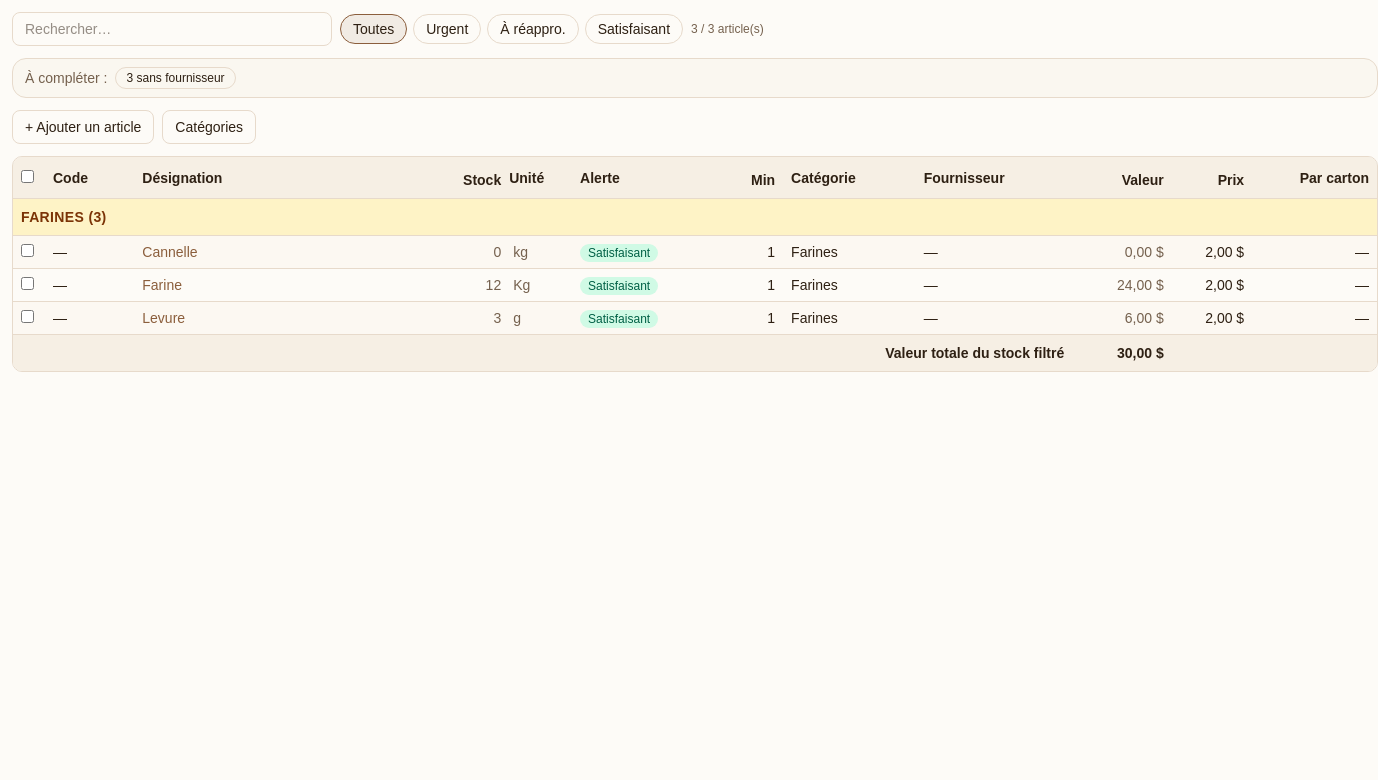
Test: suppression groupée : aperçu, confirmation, compte rendu › confirmer supprime, affiche « 1 supprimé · 1 conservé… » et propose de DÉSACTIVER les conservés
This screenshot has width=1378, height=780.
Step 1. Click the checkbox named "Sélectionner Cannelle" → coordinates (28, 250), box [21,244,34,257]
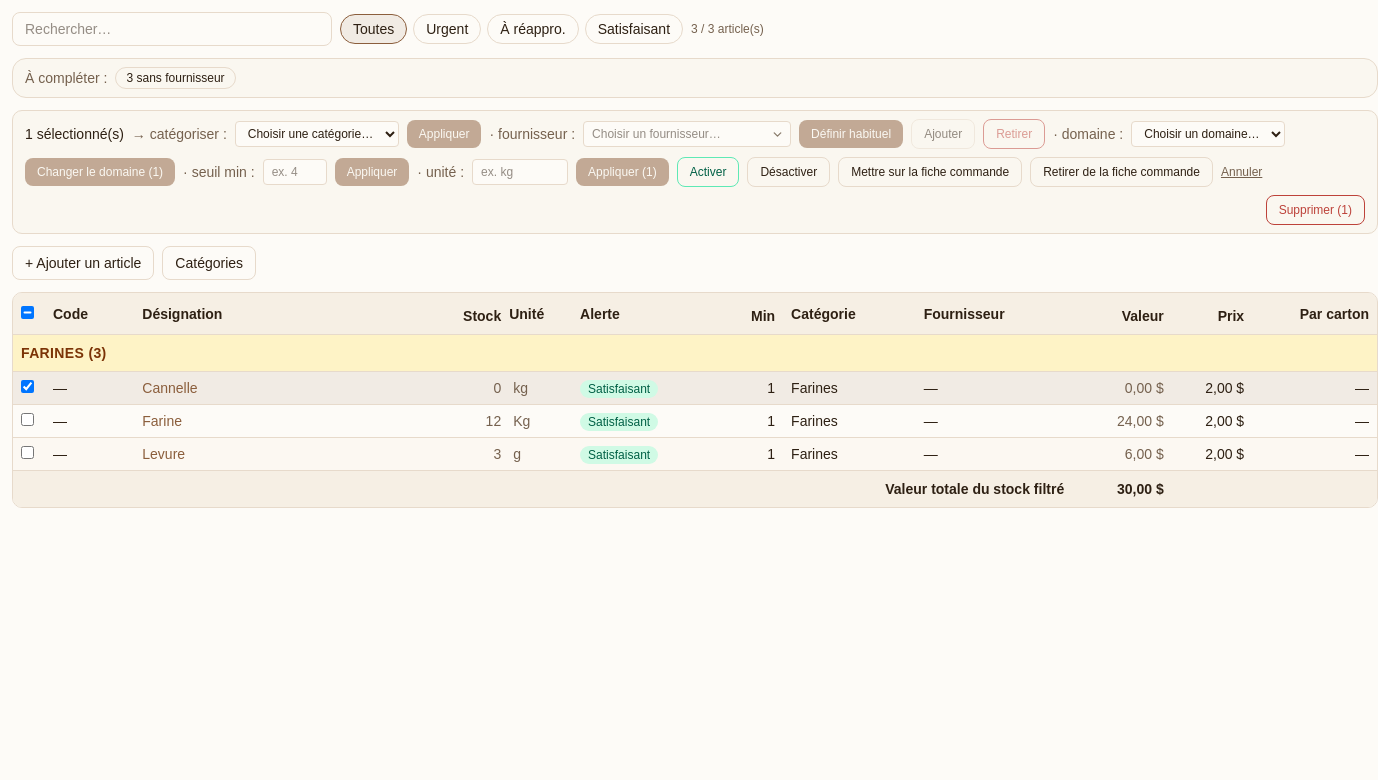
Step 2. Click the checkbox named "Sélectionner Farine" → coordinates (28, 420), box [21,413,34,426]
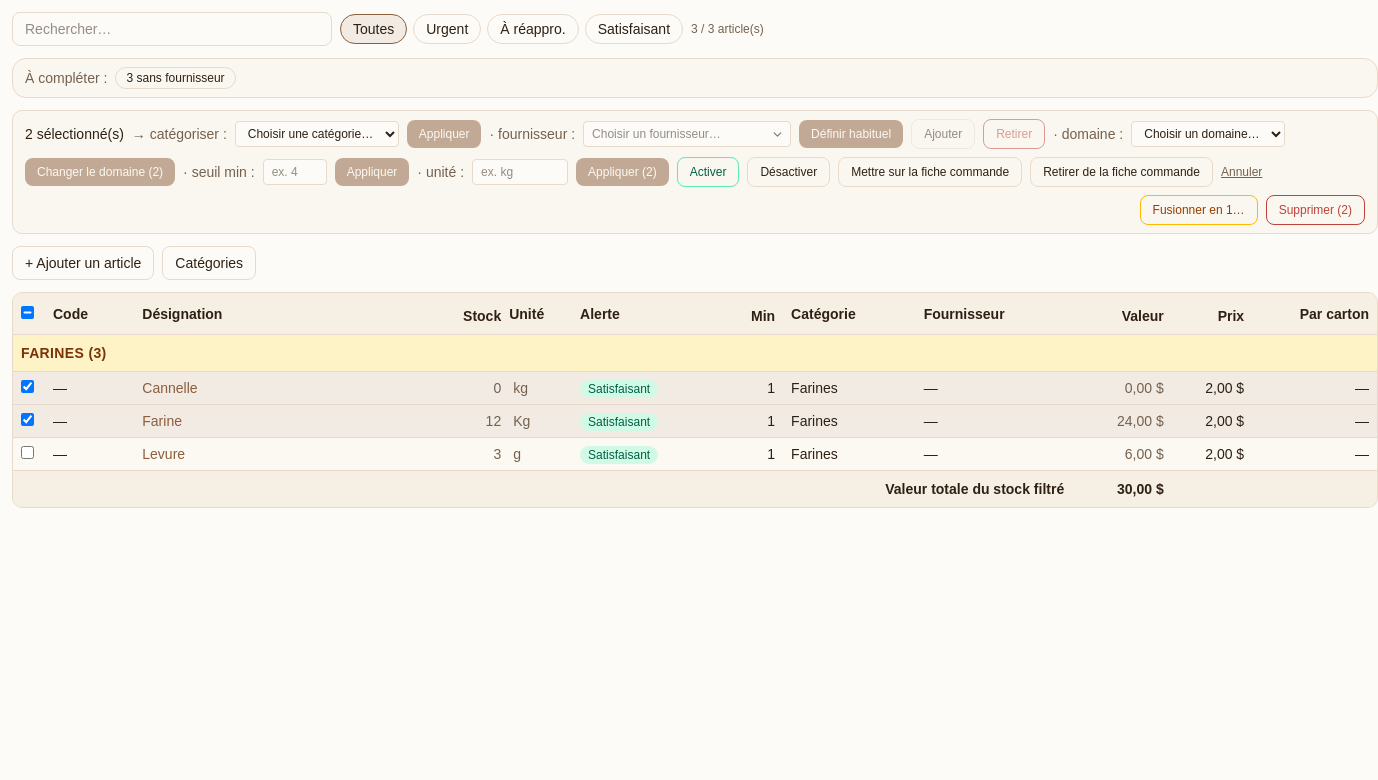
Result: the button "Supprimer (2)" is shown
Step 3. Click the button "Supprimer (2)" → coordinates (1315, 210), box [1266,195,1365,225]
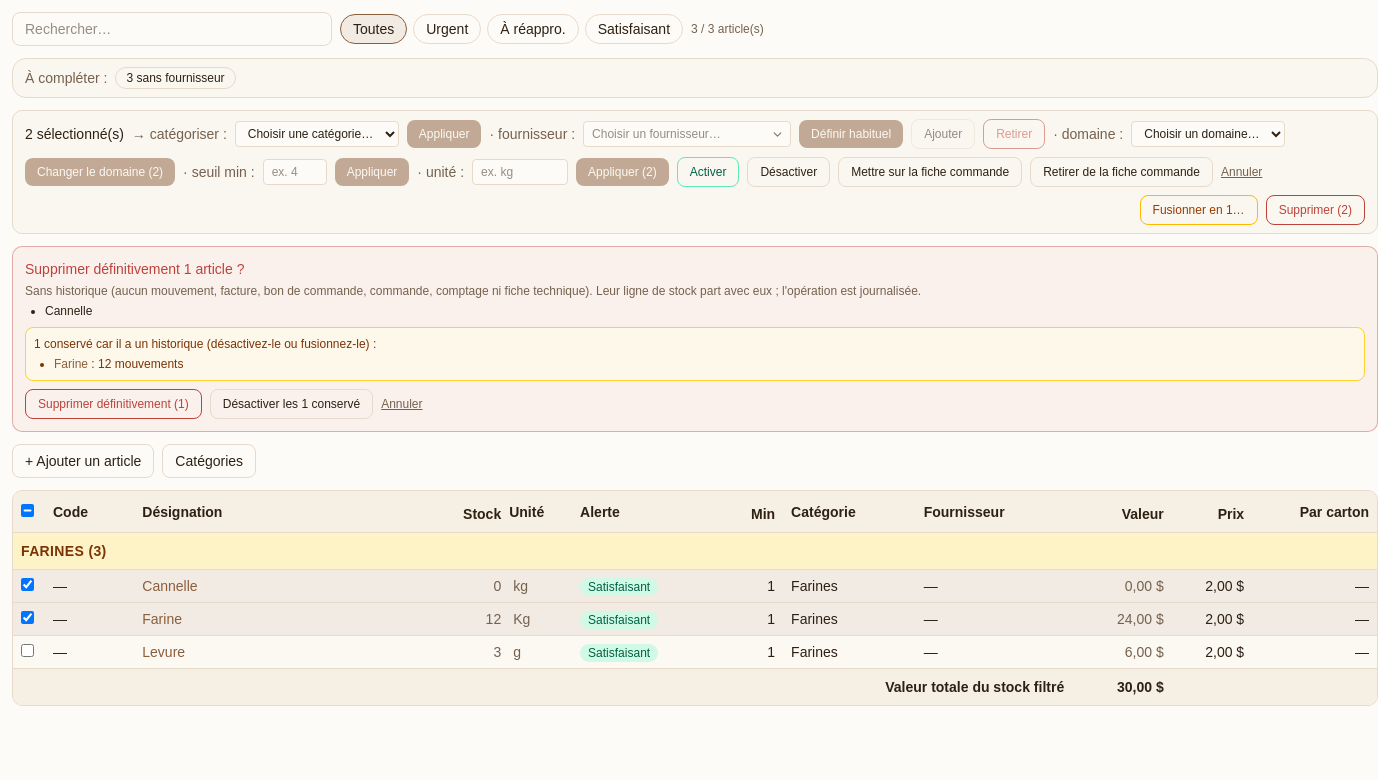
Result: the button "Supprimer définitivement (1)" is shown
Step 4. Click the button "Supprimer définitivement (1)" → coordinates (113, 404), box [25,389,202,419]
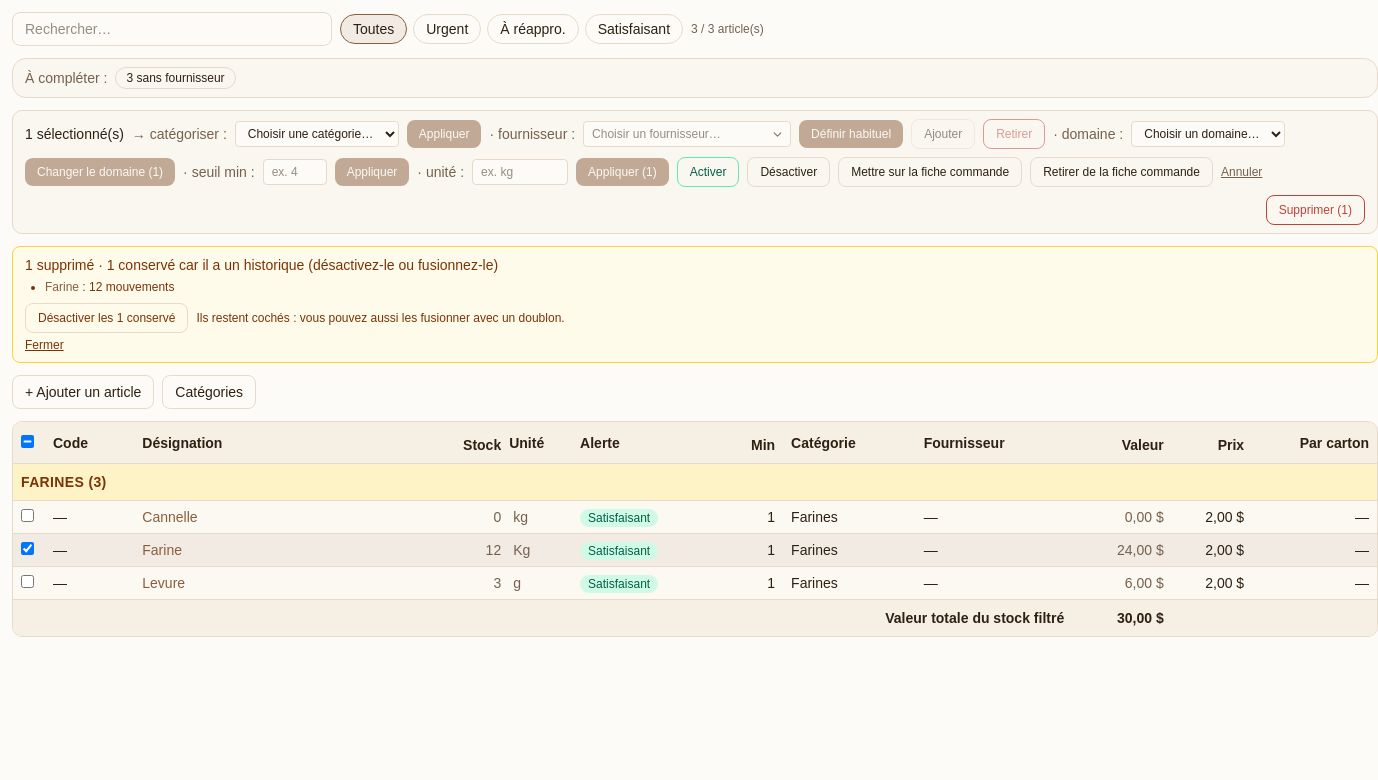
Result: the message shows "1 supprimé · 1 conservé car il a un historique (désactivez-le ou fusionnez-le)" at [25,257,498,273]
Result: the message shows "Farine" at [45,280,79,294]
Result: the message shows "12 mouvements" at [89,280,174,294]
Step 5. Click the button "Désactiver les 1 conservé" → coordinates (107, 318), box [25,303,188,333]
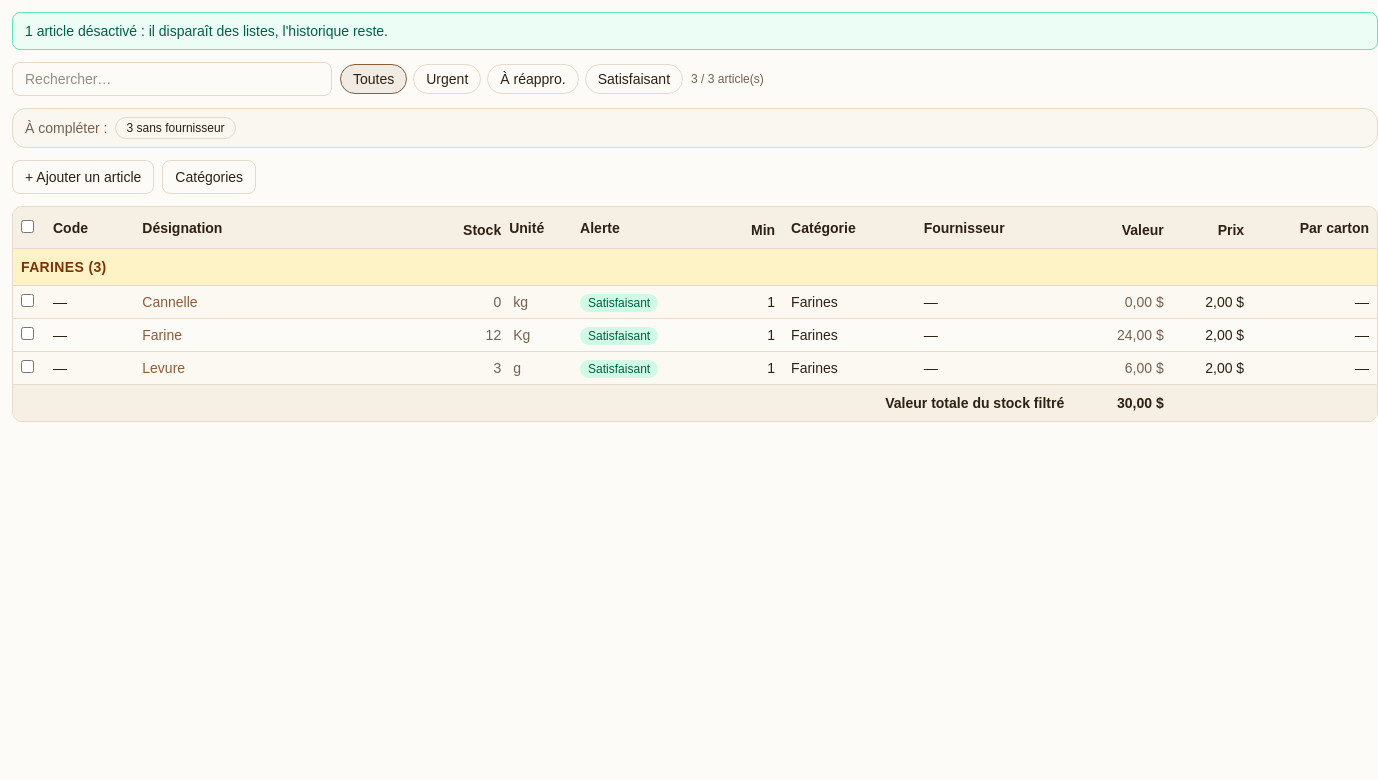
Result: the message "1 article désactivé : il disparaît des listes, l'historique reste." is shown at [12,12,1377,50]
